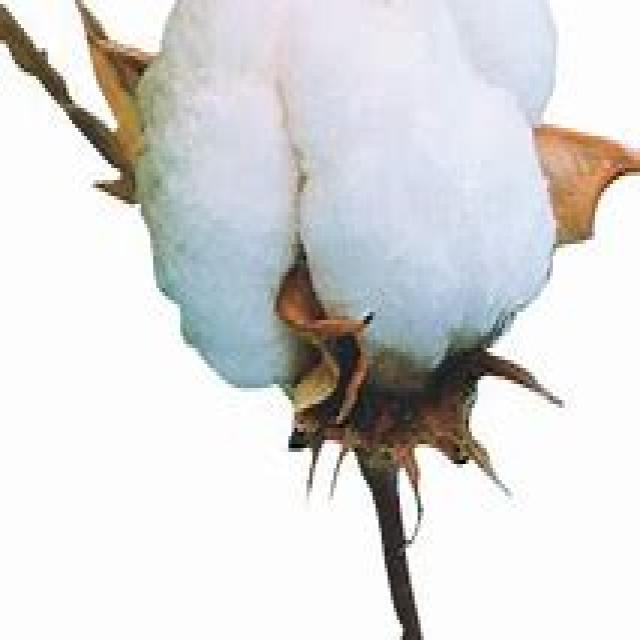Matured Cotton Boll: (130, 2, 609, 466)
